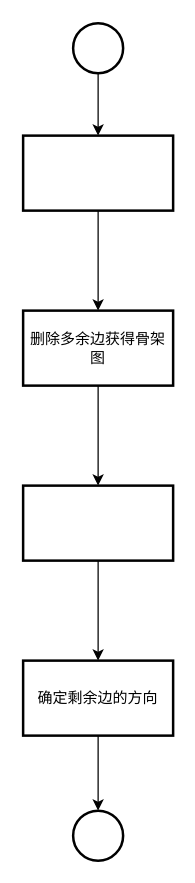
This 195x883 diagram has some shape labels left out. The box of each missing label's shape, as (x1, y1, x2, y2) in pixels:
生成完全无向图: (21, 134, 174, 211)
识别对撞结构: (21, 484, 174, 561)
